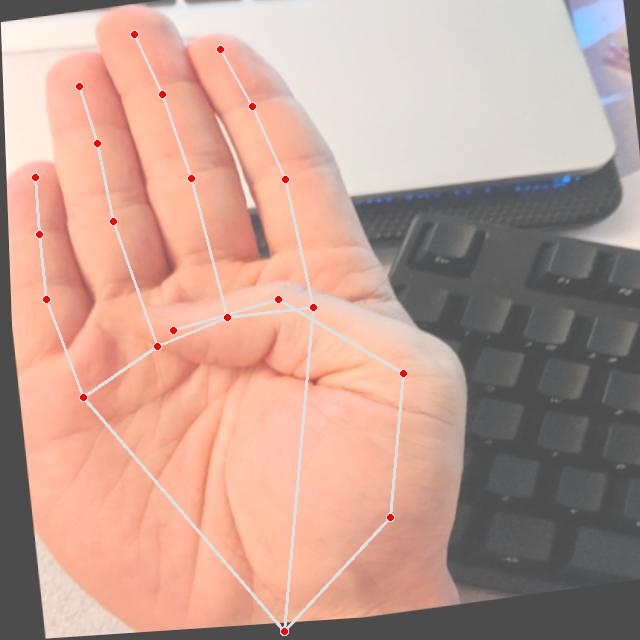B: (0, 0, 502, 639)
